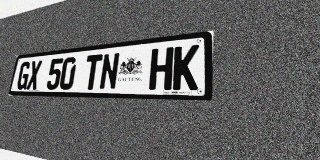0: (59, 57, 77, 90)
5: (46, 58, 63, 90)
G: (16, 61, 31, 90)
H: (148, 47, 174, 90)
K: (172, 44, 199, 90)
N: (99, 52, 120, 90)
T: (82, 54, 103, 90)
X: (26, 60, 42, 90)
